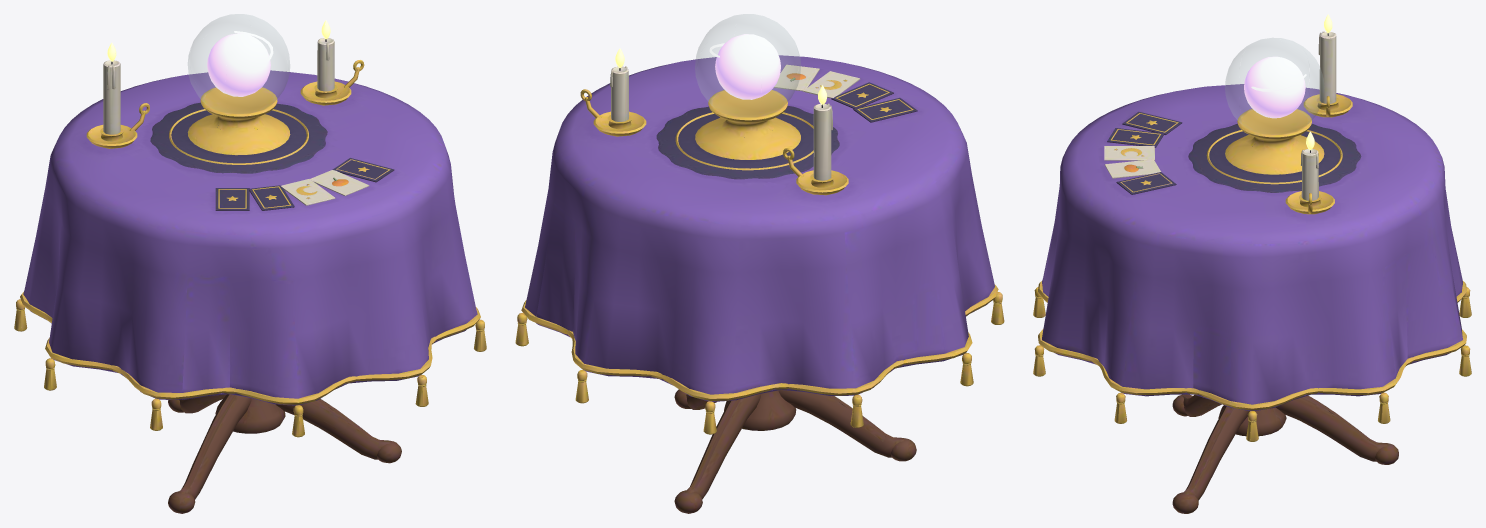
The model's file is mesa_adivina.glb.
The picture shows the model from 3 angles, left to right: view 1: azimuth 30°, elevation 25°; view 2: azimuth 150°, elevation 25°; view 3: azimuth 270°, elevation 25°; orthographic projection. The views are drawn at different scales.
Parts seen in each view (by area): view 1: fortune-teller-table_body; view 2: fortune-teller-table_body; view 3: fortune-teller-table_body.
Part boxes in pixels (<box>): fortune-teller-table_body: <box>14,14,486,513</box>; fortune-teller-table_body: <box>515,14,1004,513</box>; fortune-teller-table_body: <box>1033,14,1471,513</box>.
Size of the model in its own units: 1.03 by 1.04 by 0.9853.
5 materials, 1 textured.
